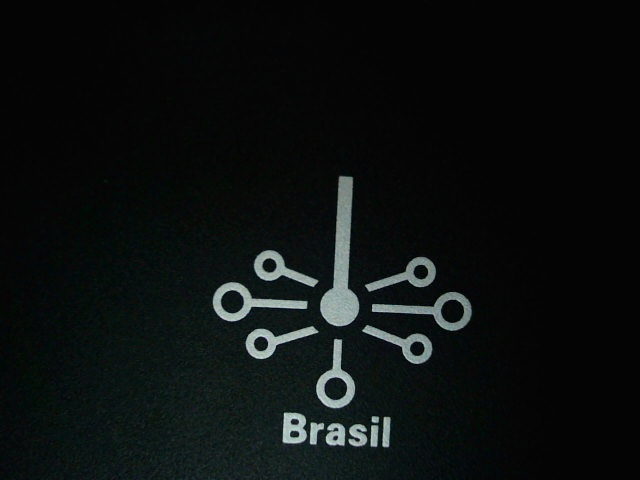BG_Brasil: (186, 153, 498, 457)
